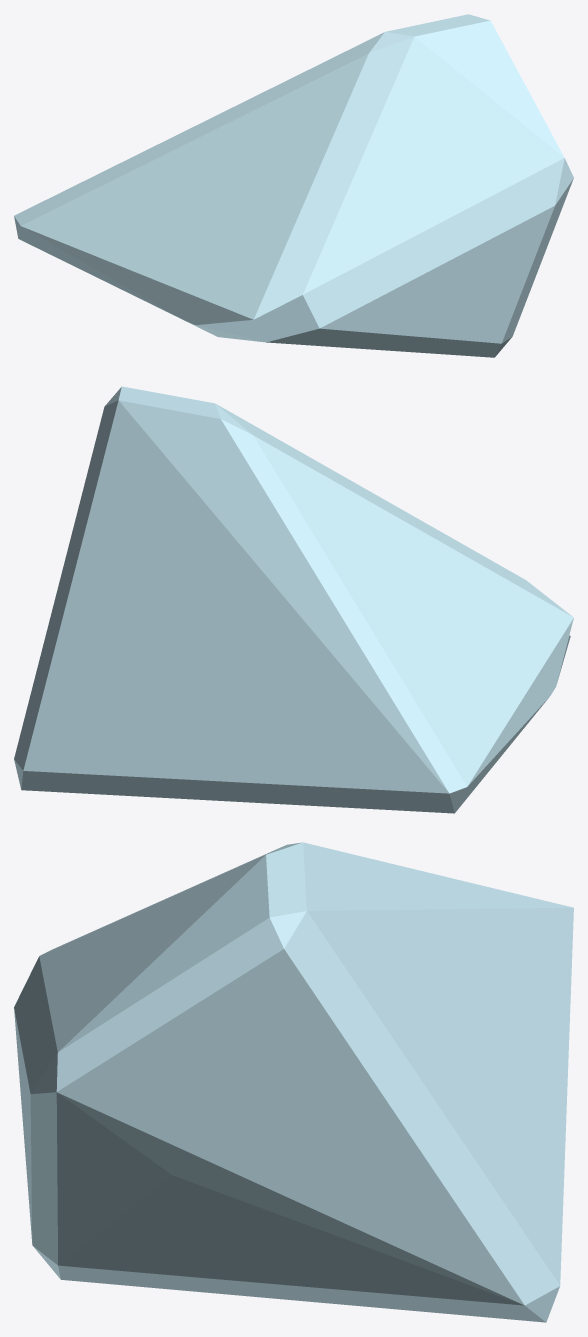
The model's file is ice_chunk_a.glb.
The picture shows the model from 3 angles, top to bottom: view 1: azimuth 30°, elevation 25°; view 2: azimuth 150°, elevation 25°; view 3: azimuth 270°, elevation 25°; orthographic projection. The views are drawn at different scales.
Parts seen in each view (by area): view 1: IceChunk; view 2: IceChunk; view 3: IceChunk.
Boxes of the visible parts, x1=… form: IceChunk: x1=14, y1=14, x2=573, y2=357; IceChunk: x1=14, y1=386, x2=573, y2=813; IceChunk: x1=14, y1=842, x2=573, y2=1322.
Size of the model in its own units: 0.8256 by 0.551 by 0.6725.
